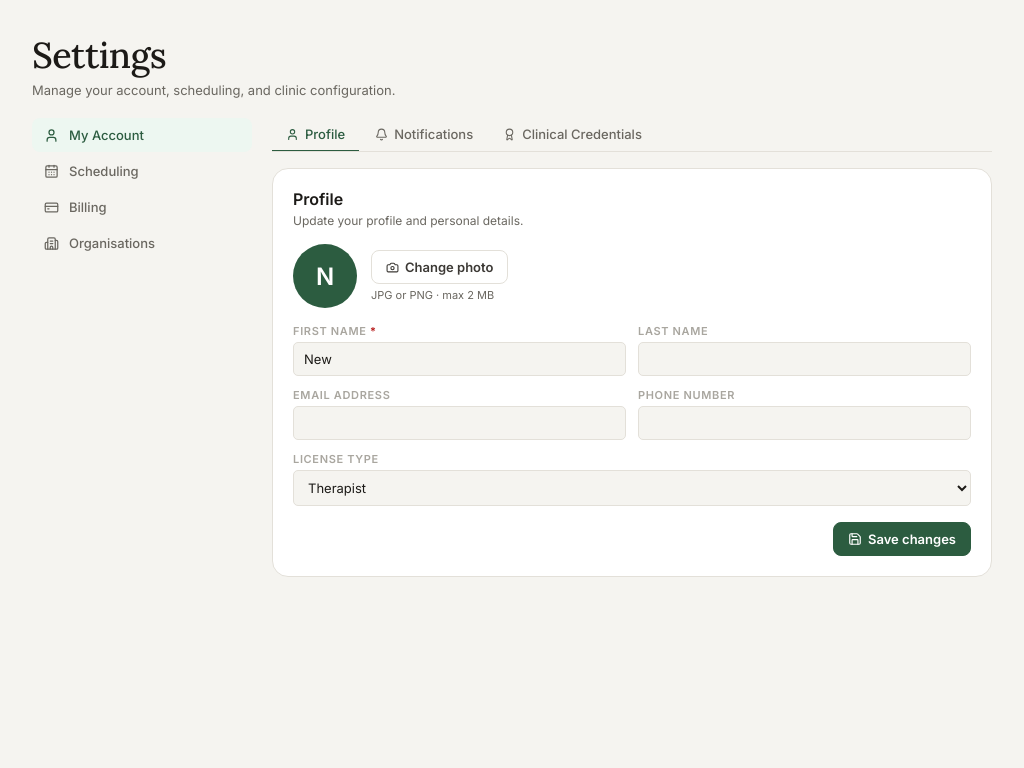
Test: <Settings> page — navigation › switches to Scheduling section and shows Availability by default
This screenshot has width=1024, height=768.
Click the button "Scheduling".
click(142, 171)  # box [32,154,252,188]
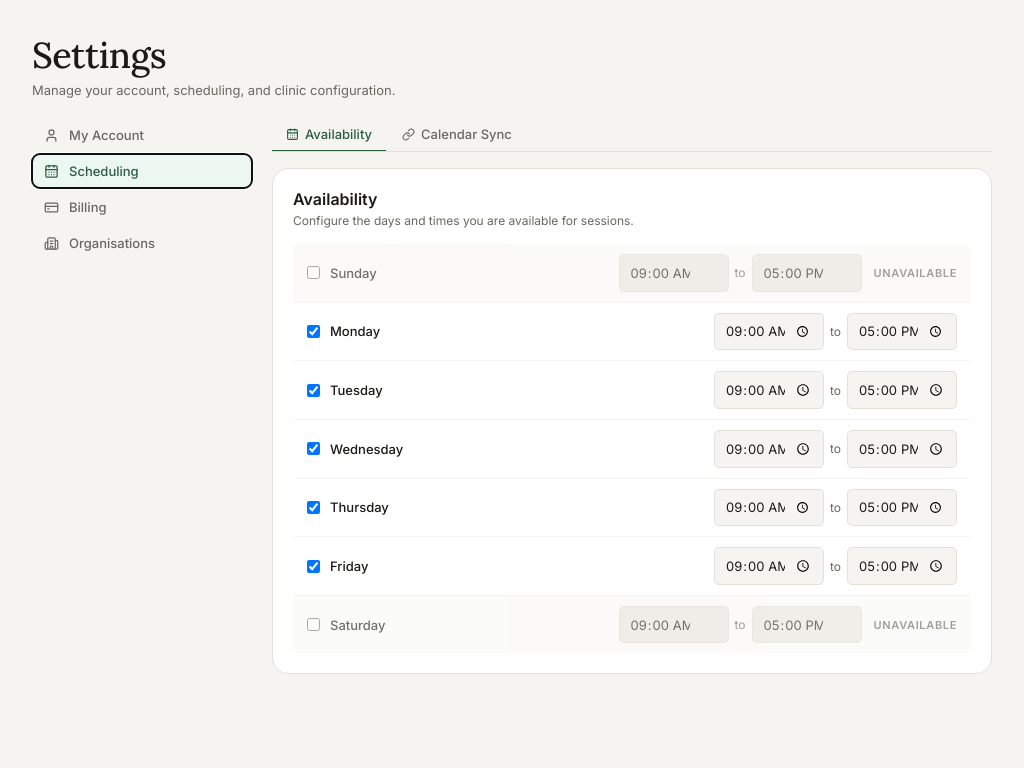
expect the heading "Availability" is shown: met, box [293,189,378,209]
